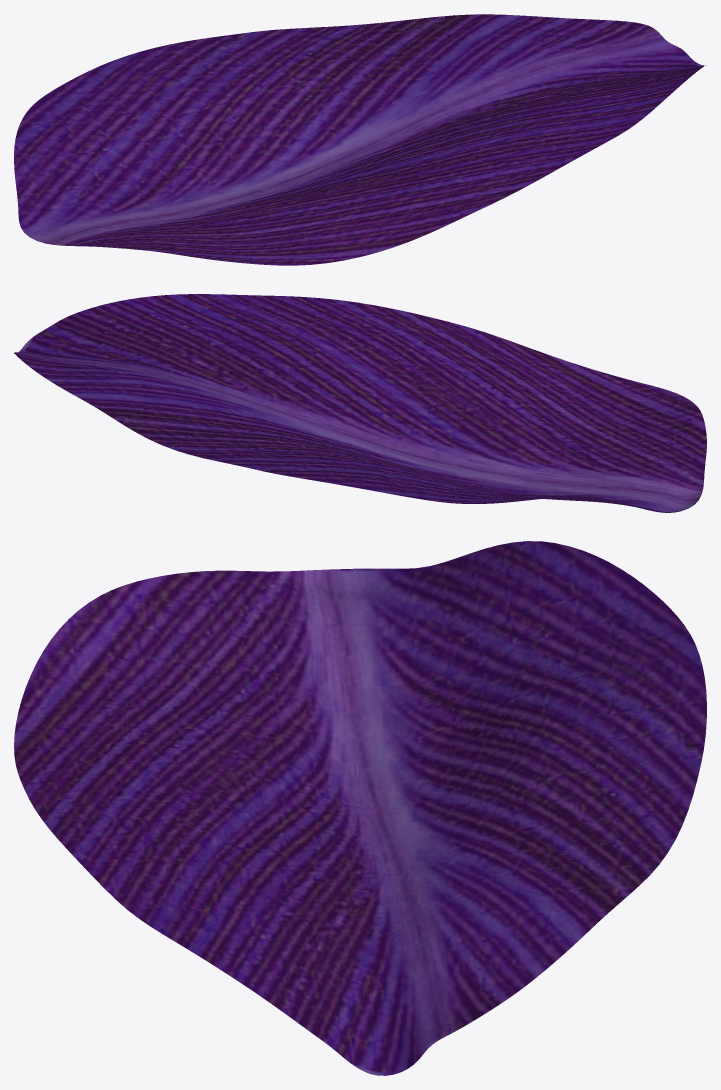
File: leaf_c2_purple.glb
The picture shows the model from 3 angles, top to bottom: view 1: azimuth 30°, elevation 25°; view 2: azimuth 150°, elevation 25°; view 3: azimuth 270°, elevation 25°; orthographic projection. The views are drawn at different scales.
Parts seen in each view (by area): view 1: Circle.015; view 2: Circle.015; view 3: Circle.015.
Part boxes in pixels (x1,y1,x2,y2): Circle.015: (14, 14, 706, 265); Circle.015: (14, 294, 706, 512); Circle.015: (14, 541, 706, 1075).
Bounding box in the file's own units: 0.9999 × 0.086 × 0.5781.
Materials: 1 (1 with a texture image).
